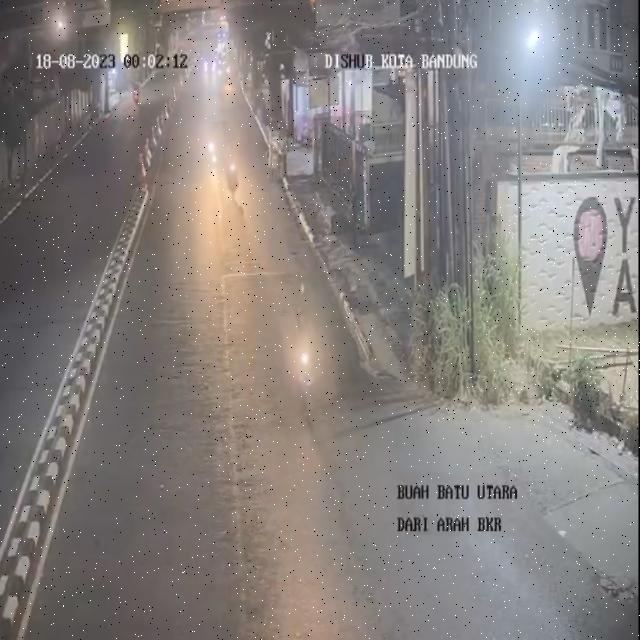motorcycle: (284, 304, 320, 422), (222, 143, 239, 203)
